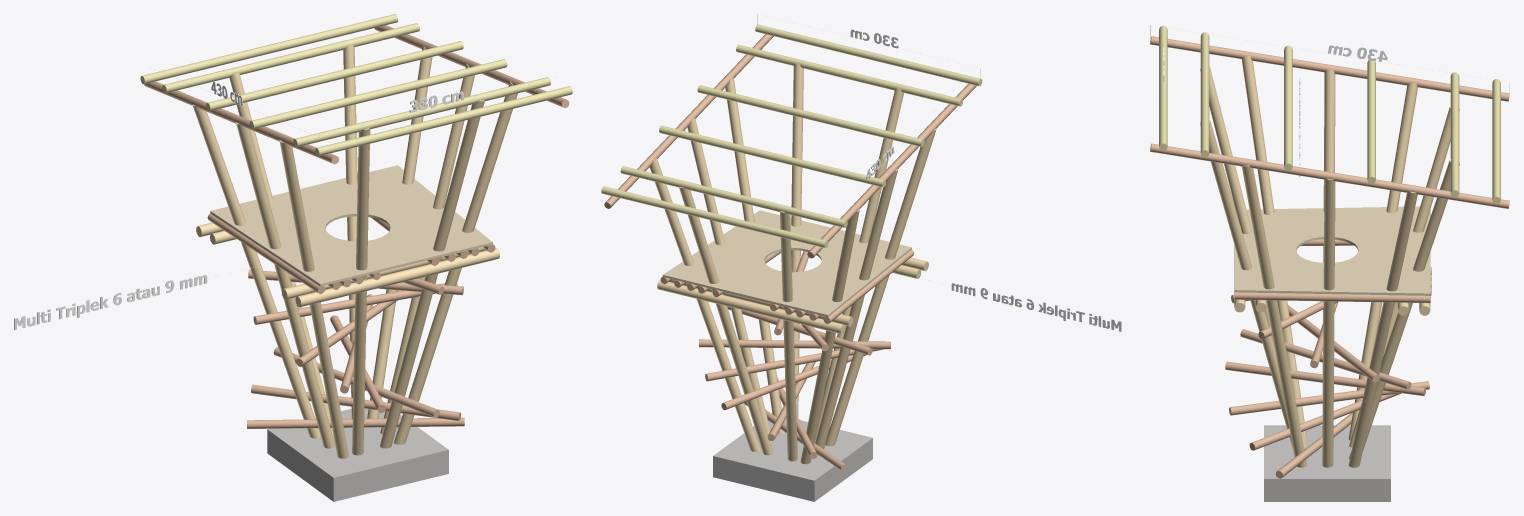
3 renders of one model, left to right at view 1: azimuth 30°, elevation 25°; view 2: azimuth 150°, elevation 25°; view 3: azimuth 270°, elevation 25°, orthographic. The views are drawn at different scales.
Visible parts, largest first — view 1: Group42, Group44, Group17, Group12, Group16, Group11, Group15, Group10, Group1, Group4, Group2, Group6 (+19 smaller); view 2: Group42, Group44, Group10, Group11, Group19, Group13, Group18, Group12, Group15, Group14, Group2, Group1 (+15 smaller); view 3: Group42, Group44, Group15, Group14, Group13, Group7, Group8, Group17, Group10, Group12, Group19, Group16 (+17 smaller).
Part boxes in pixels (x1=…): Group42: x1=210, y1=165, x2=492, y2=286; Group44: x1=267, y1=408, x2=448, y2=501; Group17: x1=380, y1=100, x2=484, y2=448; Group12: x1=192, y1=105, x2=320, y2=438; Group16: x1=352, y1=127, x2=370, y2=455; Group11: x1=236, y1=122, x2=335, y2=448; Group15: x1=394, y1=81, x2=517, y2=444; Group10: x1=279, y1=140, x2=348, y2=458; Group1: x1=140, y1=14, x2=398, y2=84; Group4: x1=249, y1=59, x2=507, y2=129; Group2: x1=315, y1=86, x2=572, y2=156; Group6: x1=162, y1=23, x2=419, y2=93; Group42: x1=662, y1=210, x2=911, y2=317; Group44: x1=713, y1=413, x2=872, y2=501; Group10: x1=825, y1=125, x2=936, y2=446; Group11: x1=815, y1=166, x2=898, y2=455; Group19: x1=679, y1=186, x2=773, y2=455; Group13: x1=649, y1=157, x2=760, y2=451; Group18: x1=780, y1=211, x2=797, y2=461; Group12: x1=800, y1=206, x2=859, y2=464; Group15: x1=725, y1=77, x2=784, y2=434; Group14: x1=687, y1=118, x2=772, y2=442; Group2: x1=755, y1=24, x2=982, y2=86; Group1: x1=601, y1=186, x2=828, y2=248; Group42: x1=1234, y1=206, x2=1430, y2=295; Group44: x1=1264, y1=425, x2=1390, y2=501; Group15: x1=1241, y1=165, x2=1306, y2=467; Group14: x1=1322, y1=178, x2=1335, y2=467; Group13: x1=1348, y1=191, x2=1417, y2=467; Group7: x1=1150, y1=143, x2=1509, y2=208; Group8: x1=1150, y1=36, x2=1509, y2=101; Group17: x1=1200, y1=119, x2=1293, y2=449; Group10: x1=1241, y1=56, x2=1306, y2=440; Group12: x1=1348, y1=82, x2=1417, y2=440; Group19: x1=1349, y1=159, x2=1459, y2=459; Group16: x1=1200, y1=66, x2=1306, y2=447.
Size of the model in its own units: 632 by 539 by 425.
